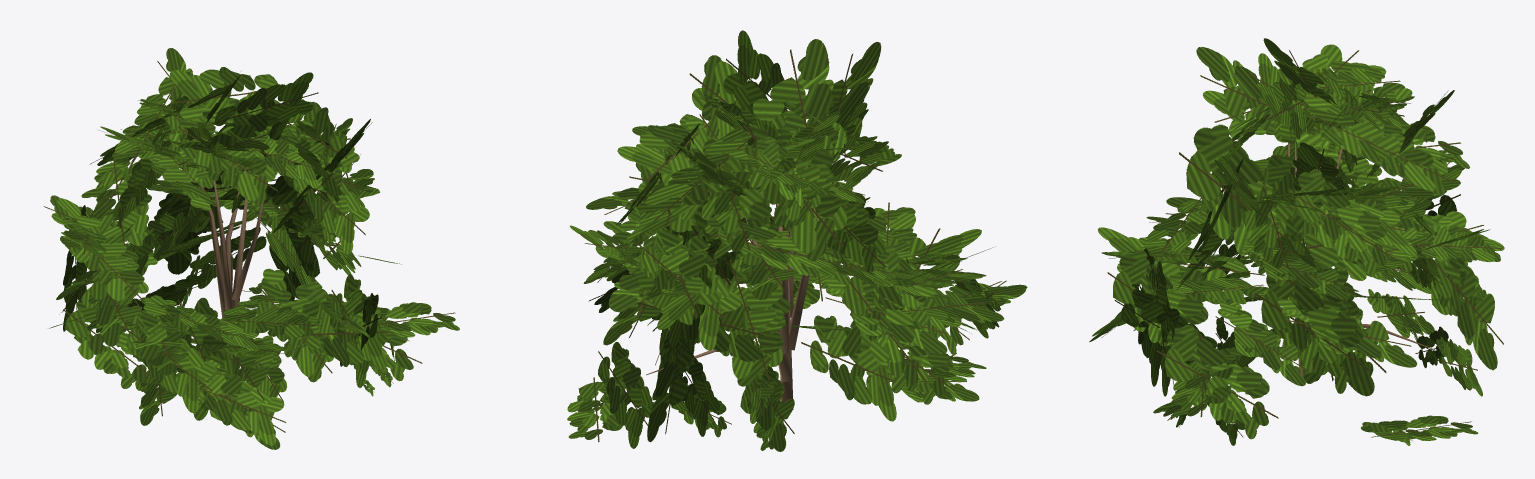
The model's file is mid.glb.
3 views of the same model, side by side, from view 1: azimuth 30°, elevation 25°; view 2: azimuth 150°, elevation 25°; view 3: azimuth 270°, elevation 25° (orthographic). The views are drawn at different scales.
Visible parts, largest first — view 1: foliage.001, bark.001; view 2: foliage.001, bark.001; view 3: foliage.001.
Boxes of the visible parts, x1,y1,x2,y2 form: foliage.001: [44, 48, 459, 449]; bark.001: [200, 140, 263, 317]; foliage.001: [567, 30, 1027, 451]; bark.001: [646, 161, 809, 409]; foliage.001: [1089, 38, 1504, 445].
Size of the model in its own units: 14.9 by 11.78 by 13.43.
Materials: 2 (1 with a texture image).
